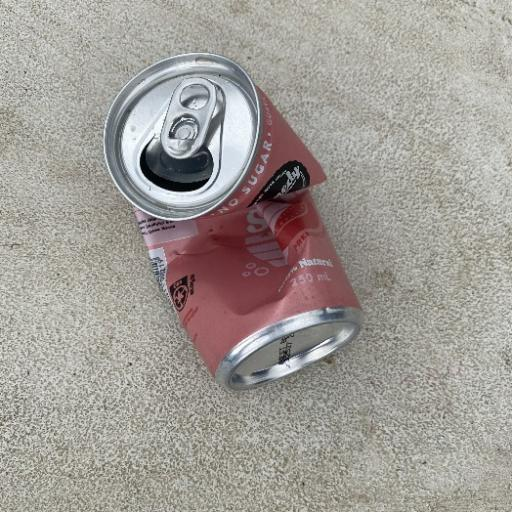Metal: (100, 50, 366, 393)
